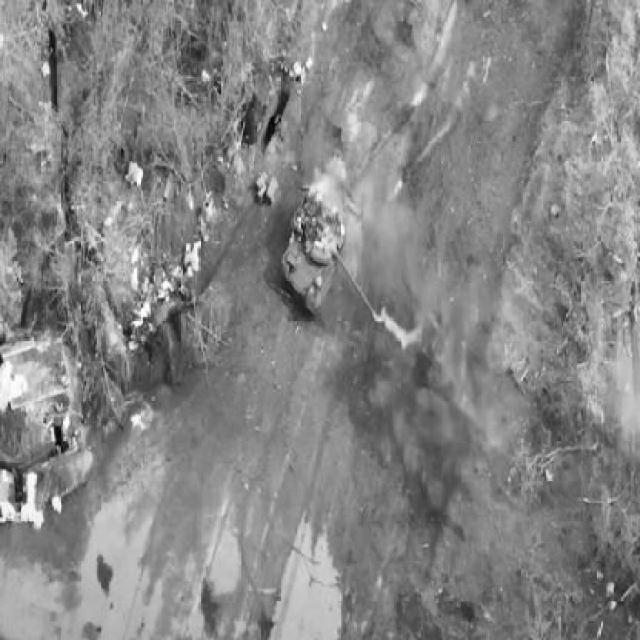Tank: (281, 165, 376, 332)
